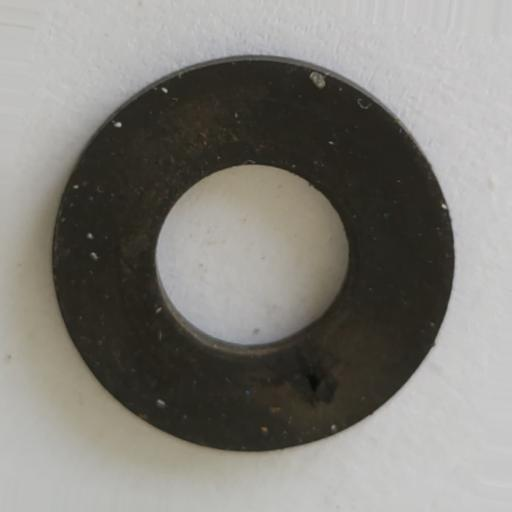defect: (252, 336, 342, 409)
